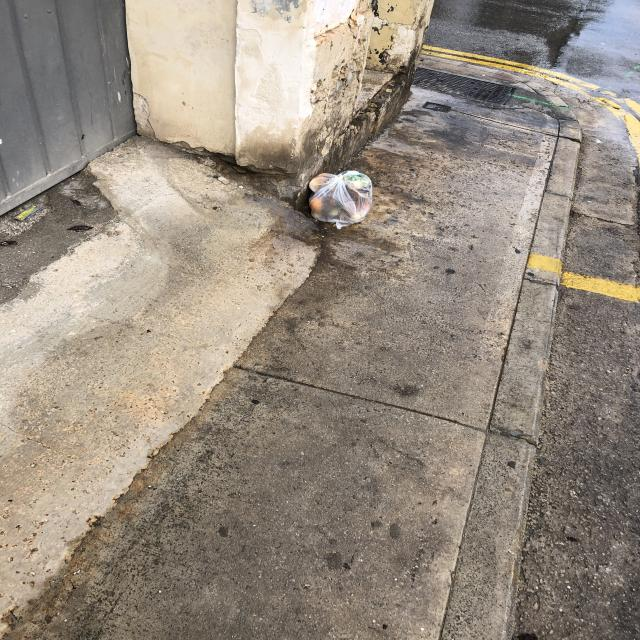Organic Waste -White Bag-: (296, 167, 385, 235)
